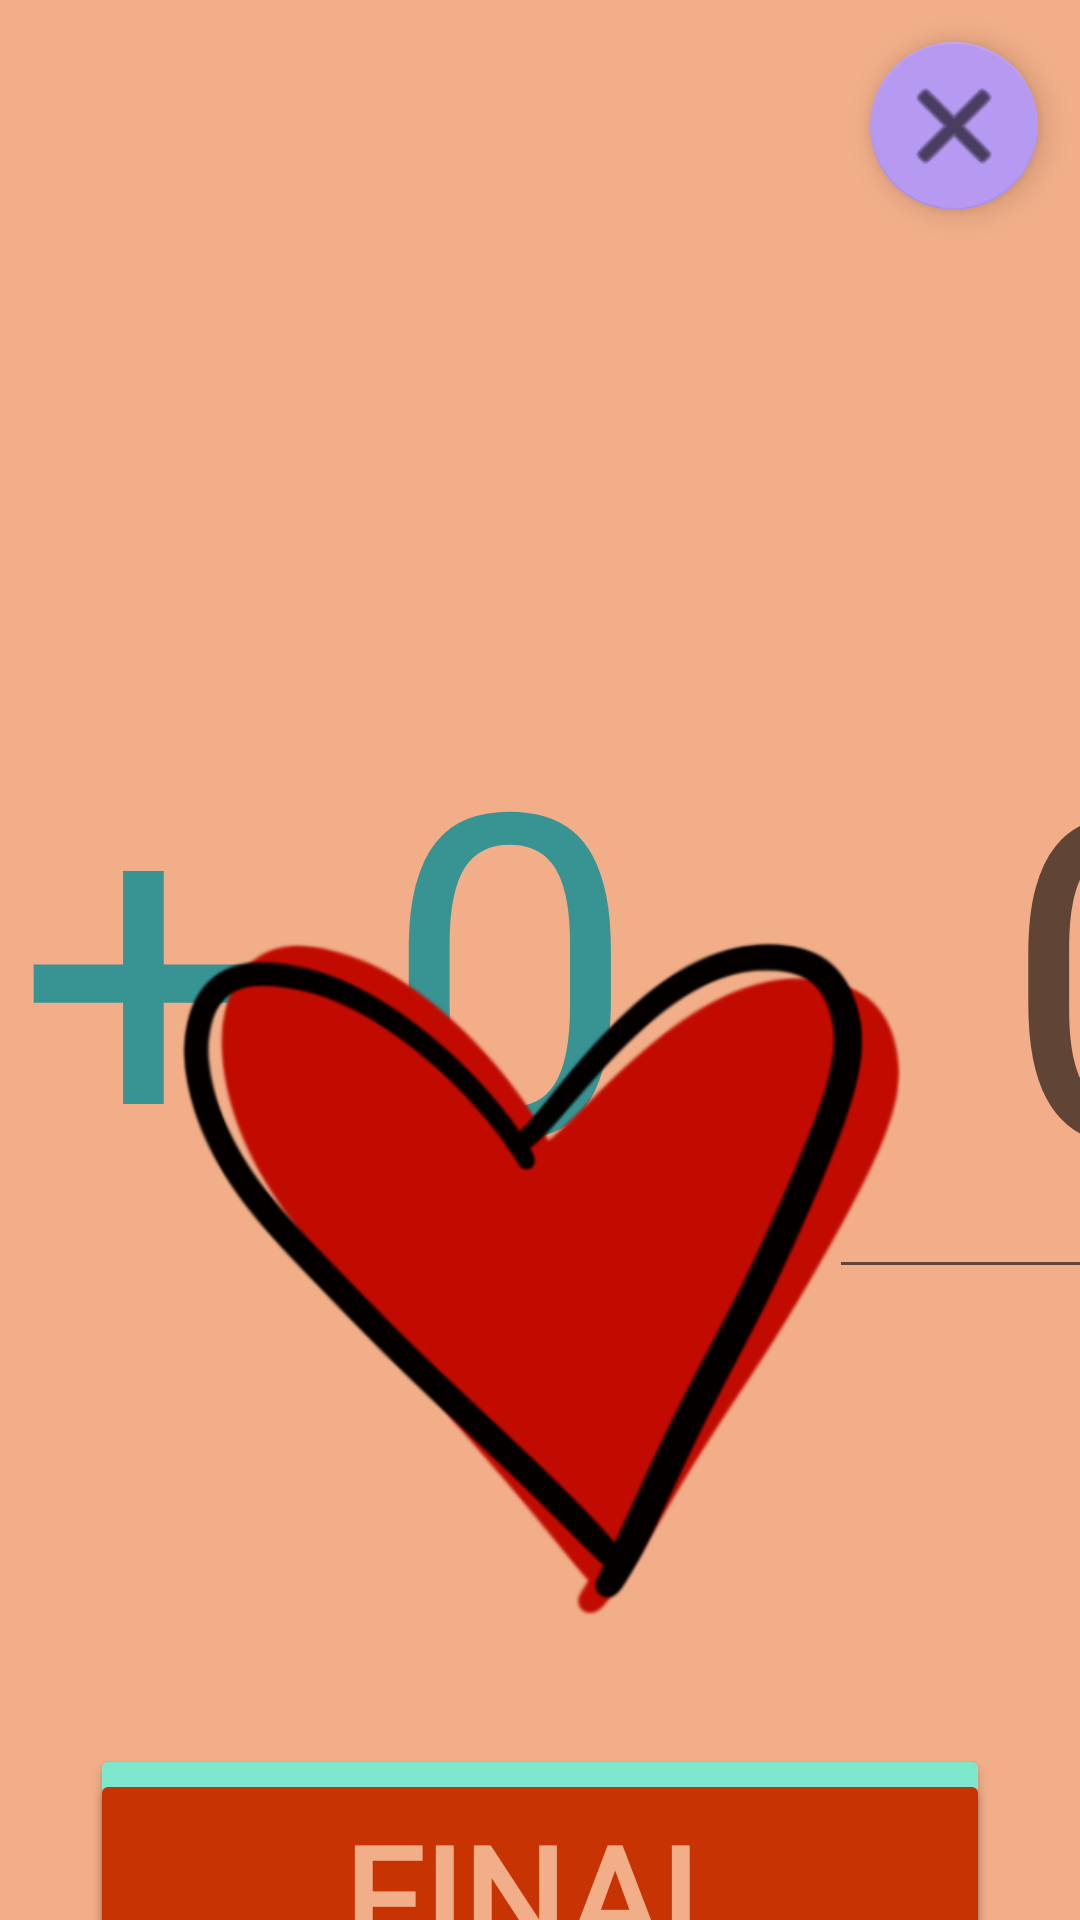

Icons on this 1080w x 1920h Android screen, each with the point to tap as (x,y):
close clear cancel: (954,126)
